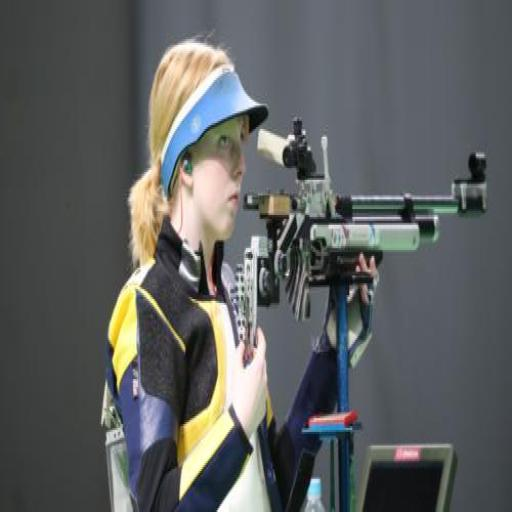shooting: (101, 37, 382, 510)
